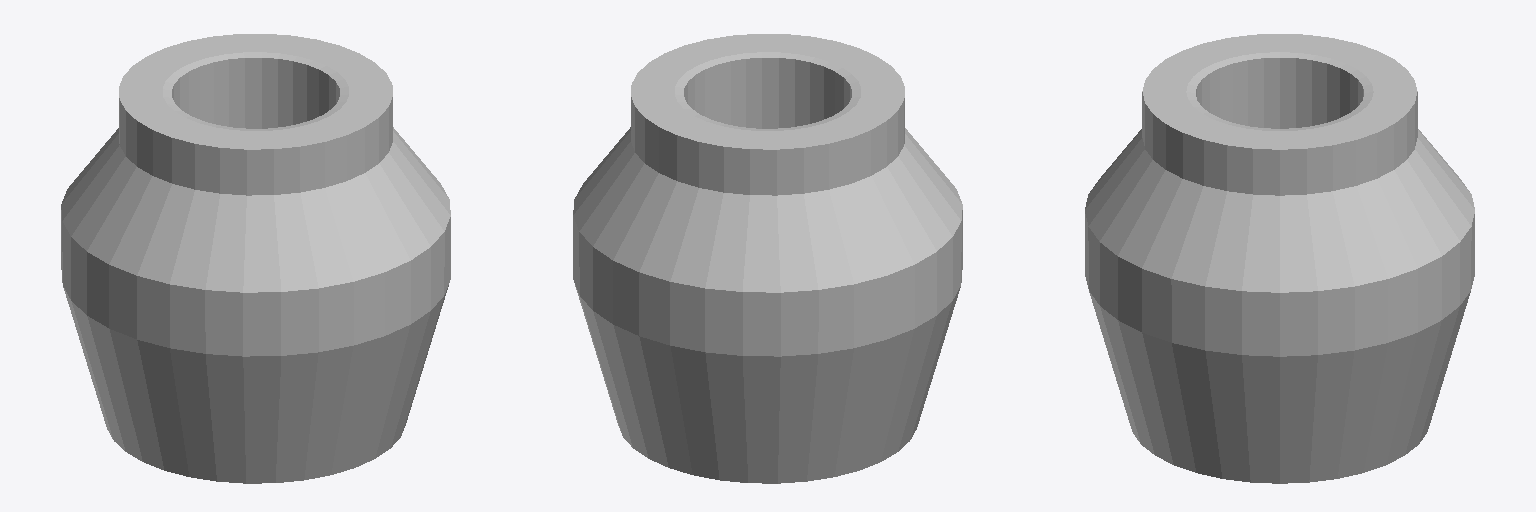
File: Fat_Vase.obj
3 renders of one model, left to right at view 1: azimuth 30°, elevation 25°; view 2: azimuth 150°, elevation 25°; view 3: azimuth 270°, elevation 25°, orthographic.
Visible parts, largest first — view 1: Vase_Tall; view 2: Vase_Tall; view 3: Vase_Tall.
Boxes of the visible parts, box(x1,y1,x2,y2) form: Vase_Tall: box(61, 34, 450, 483); Vase_Tall: box(573, 34, 962, 483); Vase_Tall: box(1085, 34, 1474, 483).
Bounding box in the file's own units: 2.25 × 2.09 × 2.25.